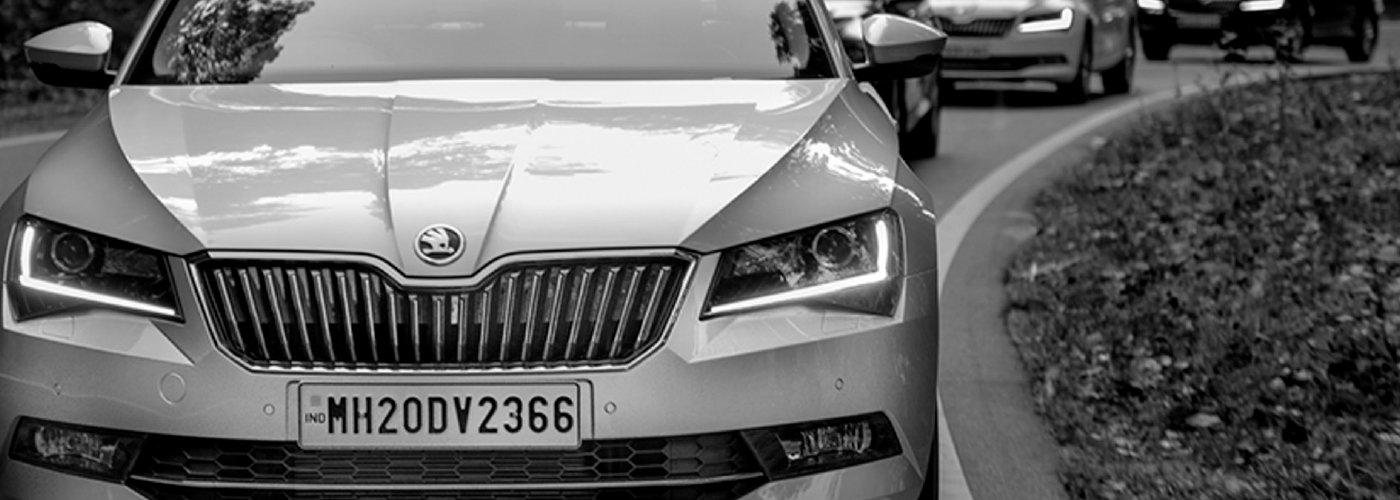Liscence Plate: (300, 380, 588, 451)
